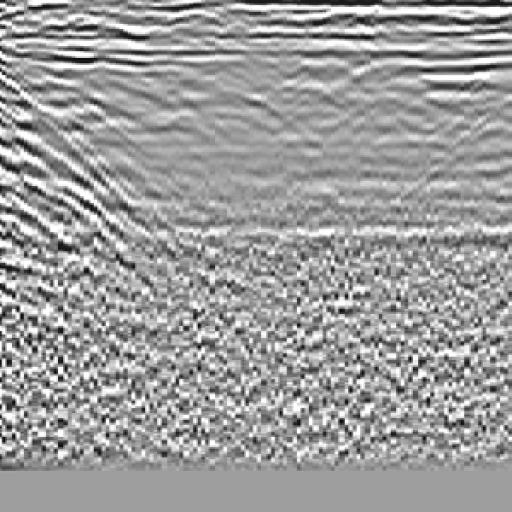metalic: (227, 33, 422, 236)
nonmetalic: (1, 38, 115, 257)
